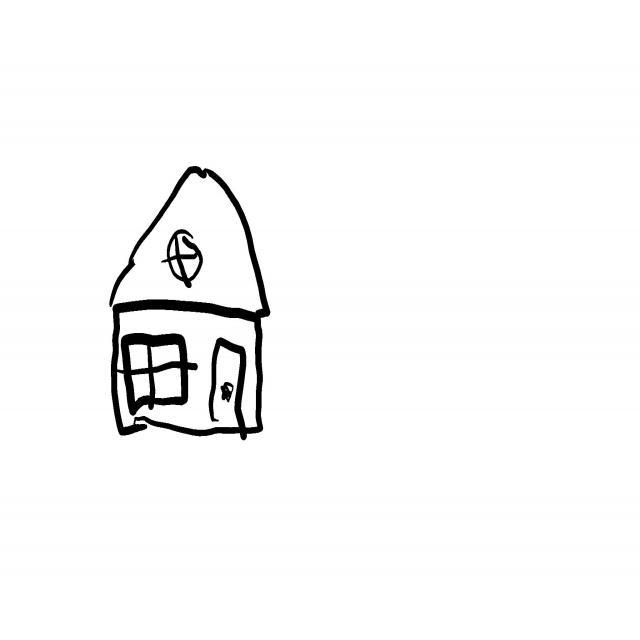door: (210, 338, 246, 440)
house: (109, 167, 270, 440)
roof: (107, 168, 268, 316)
wall: (111, 301, 262, 438)
window: (130, 337, 185, 411), (161, 229, 203, 288)
